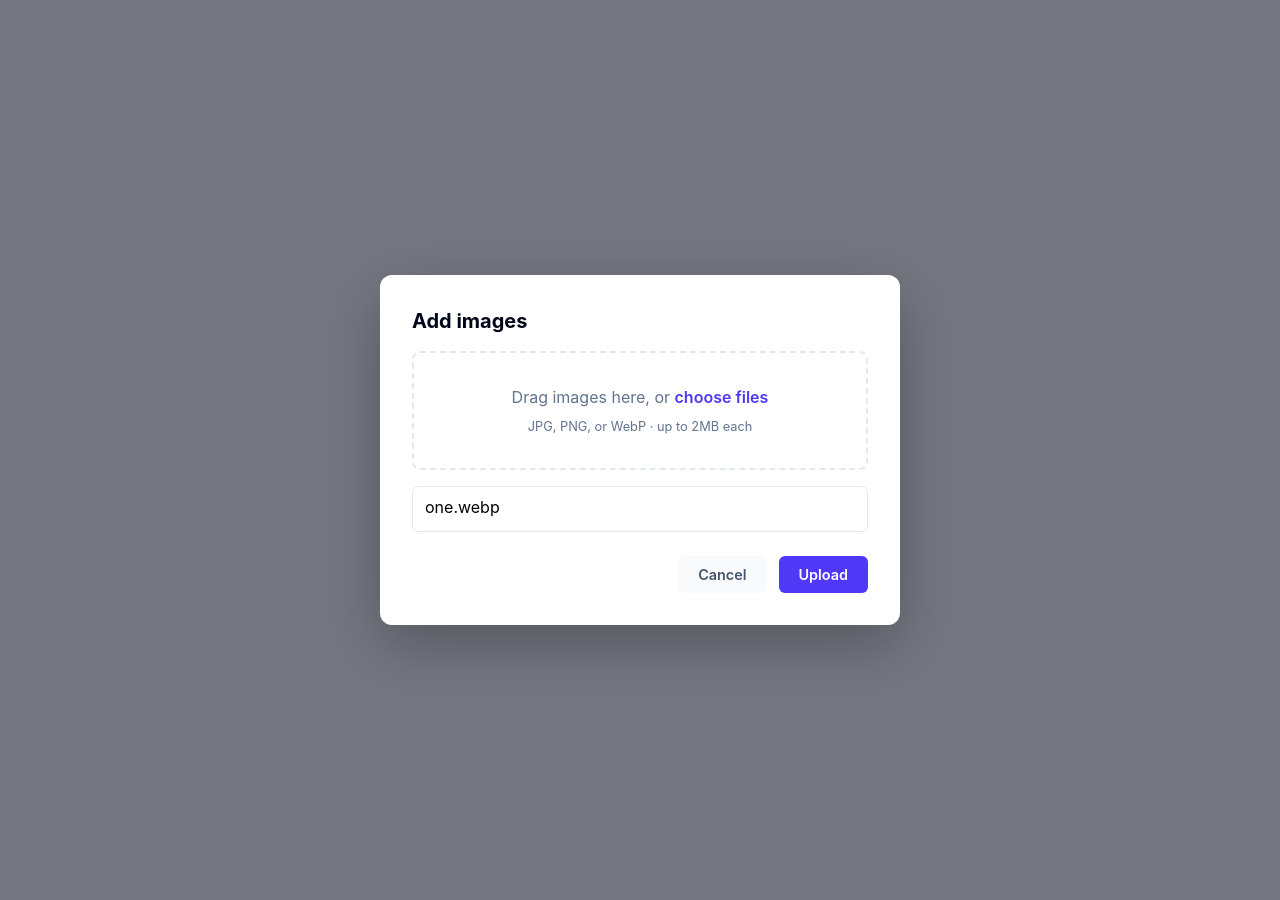
Test: ImageUploadModalComponent › closing › the backdrop routes through the confirmation too
What coordinates should you click on to do the following:
click the element with class "inset-0"
I would click on:
 (77, 450)
Its box is [0,0,1279,899].
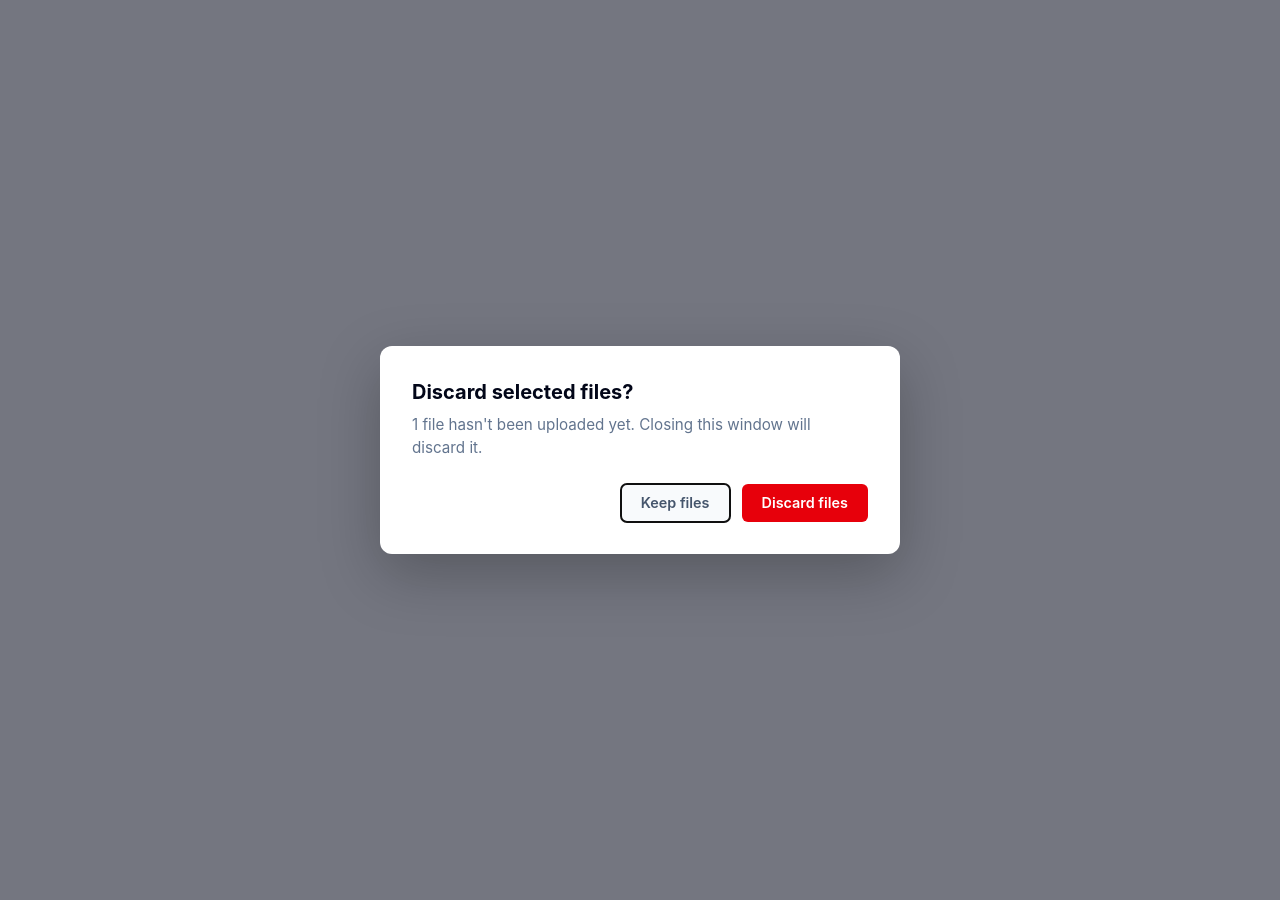
Now the element that starts with "Discard selected files?" is shown, box [412,378,868,522]
